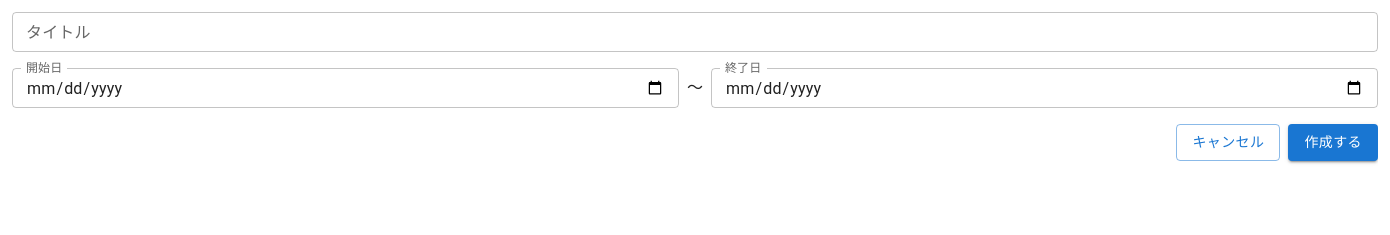
Scenario: ReportForm › RPT-FE-029: title="" で送信するとバリデーションエラーが表示される
// title を空のまま送信
Click the button "作成する": click(1333, 142) 1288,124 -> 1378,160
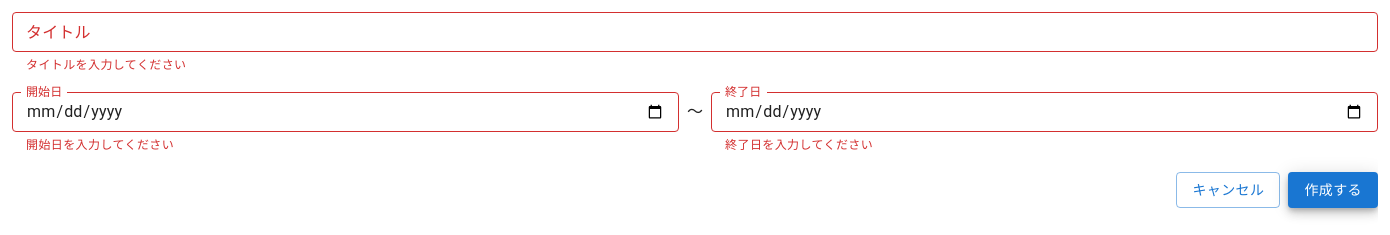
Now the text "タイトルを入力してください" is shown, box 26,58 -> 186,72
